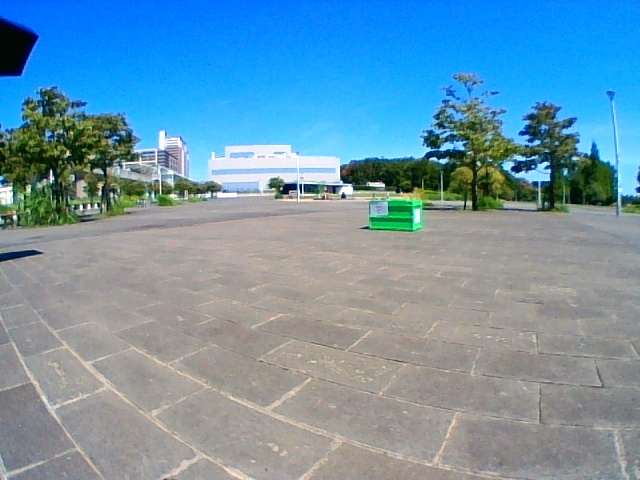green_box: (369, 199, 421, 231)
tag: (370, 203, 387, 216)
